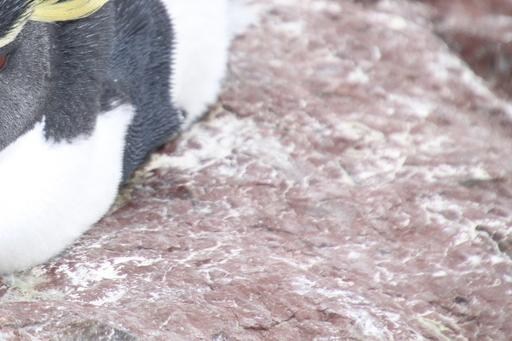Southern Rockhopper Penguin: (0, 0, 285, 290)
